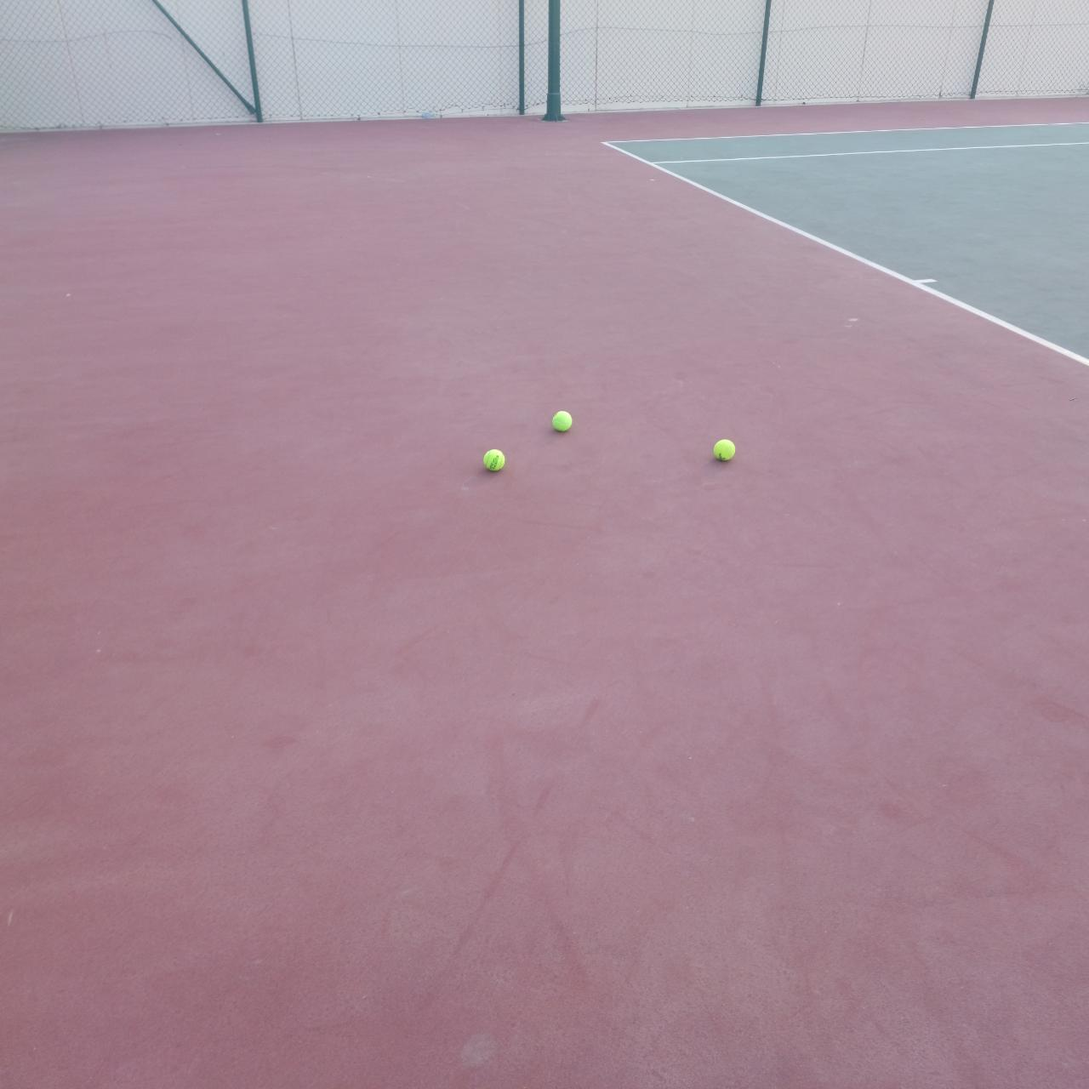tennis-ball: (711, 436, 736, 461), (481, 446, 505, 471), (550, 408, 573, 432)
